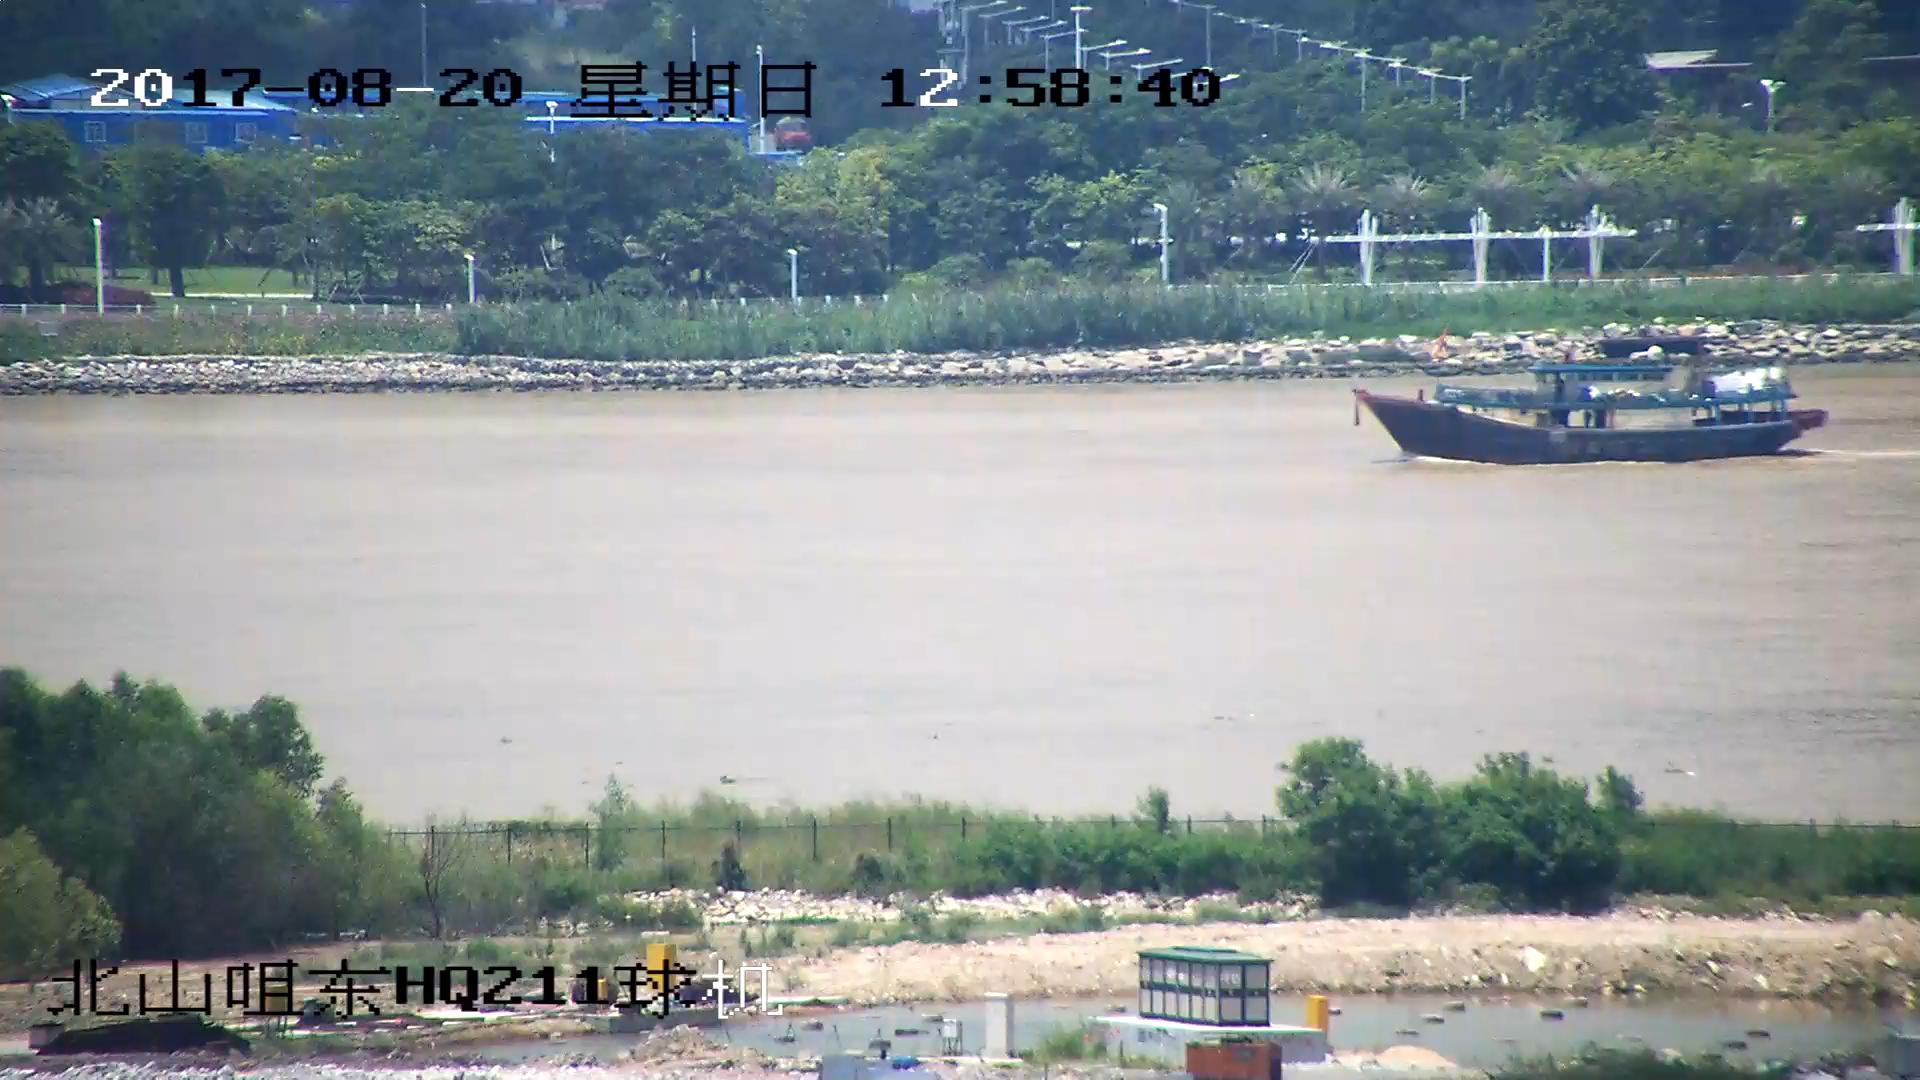fishing boat: (1352, 365, 1825, 468)
